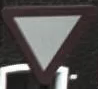Give way: (2, 2, 89, 80)
